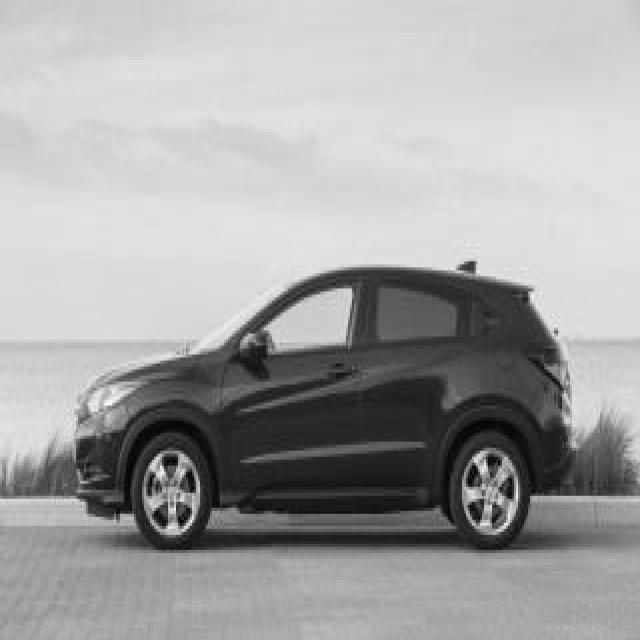Car: (78, 268, 572, 548)
